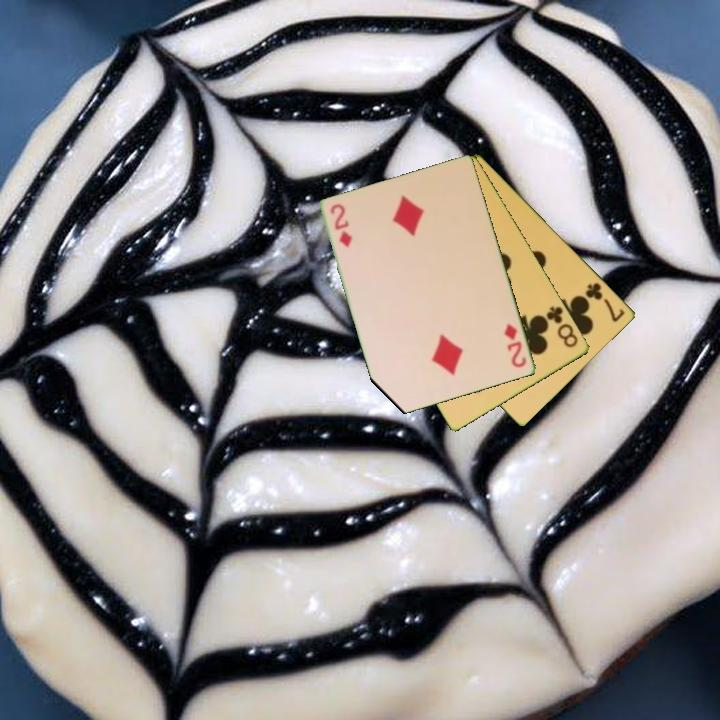2d: (501, 320, 529, 371), (327, 200, 355, 250)
7c: (582, 279, 628, 325)
8c: (543, 303, 581, 351)
